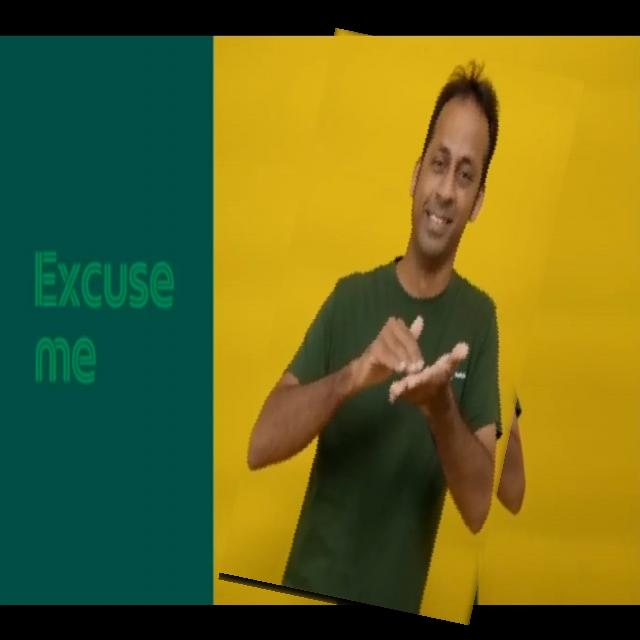ExcuseMe: (246, 38, 557, 622)
